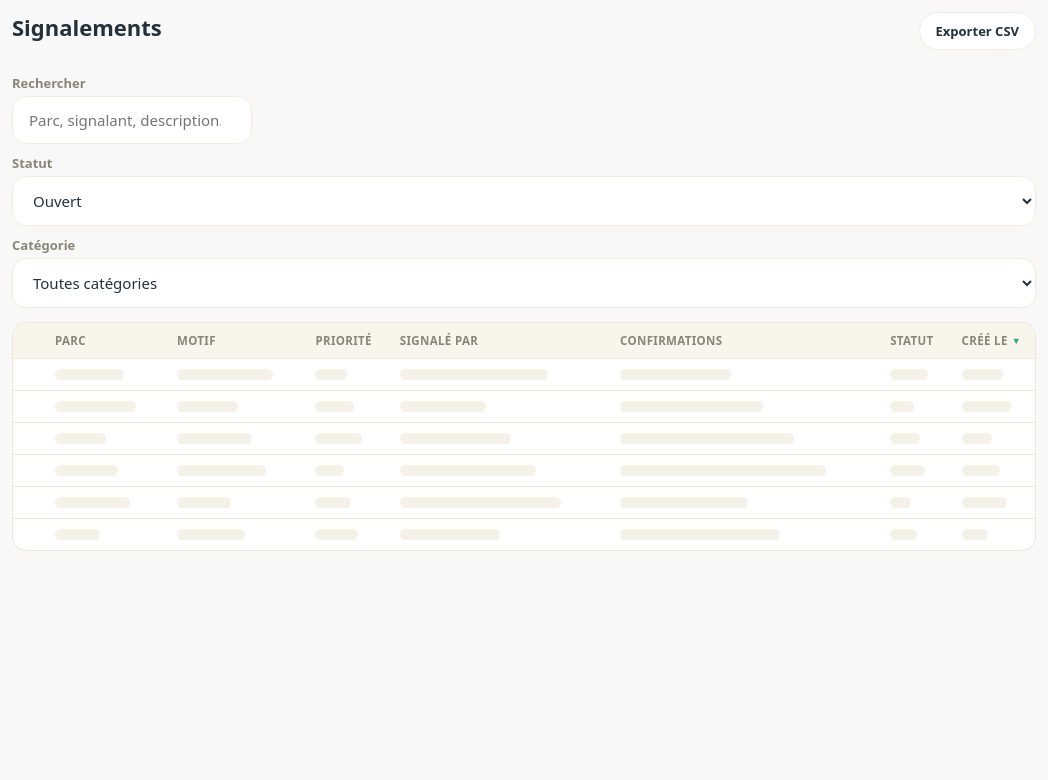
Test case: Reports — file de triage (Lot Admin-2) › le filtre Catégorie restreint la liste à la catégorie choisie
The image size is (1048, 780).
Select "Tous les statuts" in the dropdown labelled "Statut" at (524,201), box [12,176,1036,226]
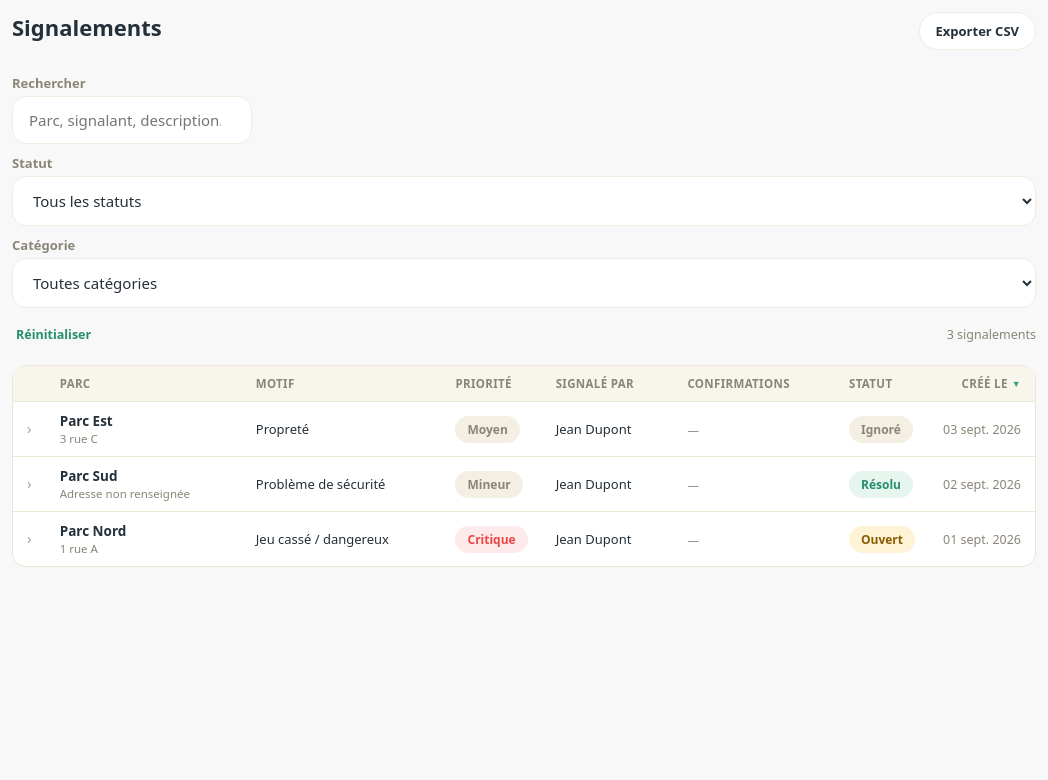
Select "Propreté" in the dropdown labelled "Catégorie" at (524,283), box [12,258,1036,308]
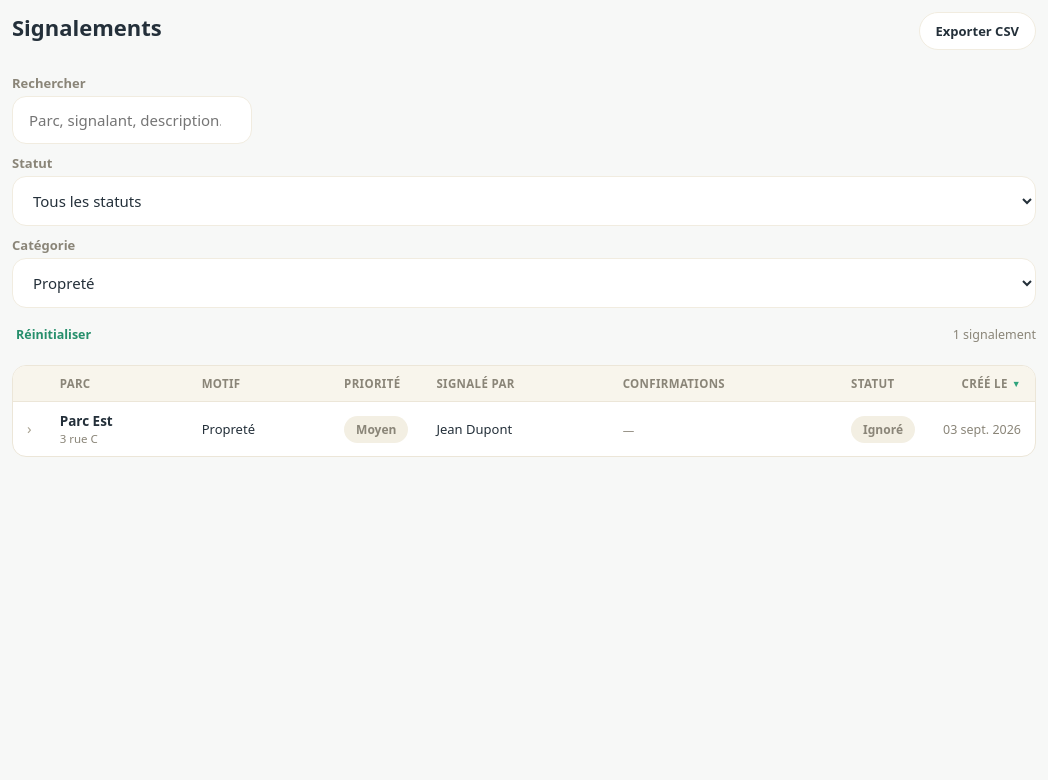
Result: the link "Parc Est" is shown at [60,412,113,430]
Result: the link "Parc Nord" is gone
Result: the link "Parc Sud" is gone
